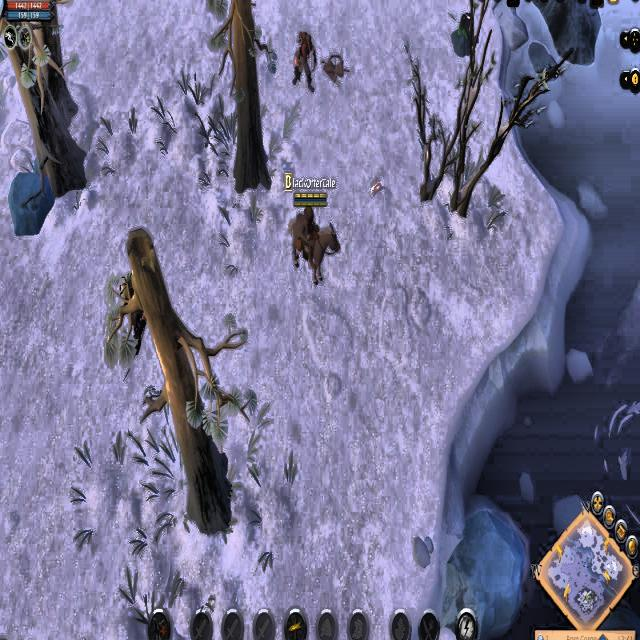tinore: (449, 8, 478, 62)
